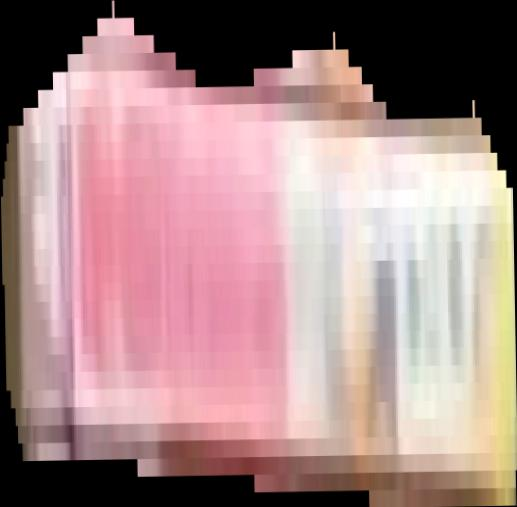flat: (1, 1, 517, 507)
